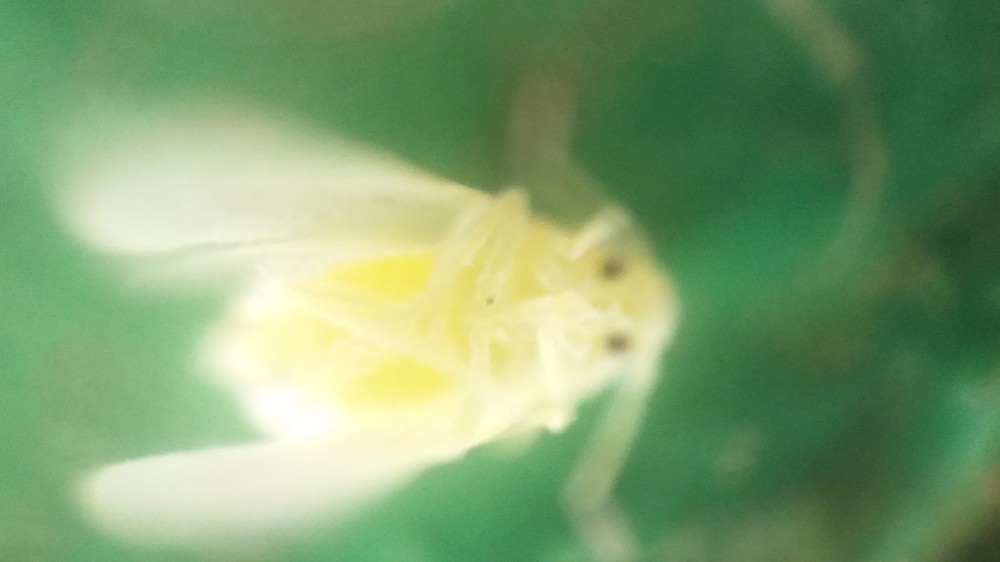Mosca Blanca: (52, 45, 695, 559)
